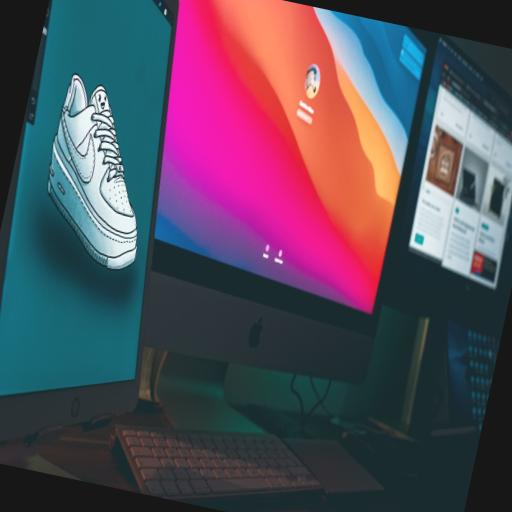shoe: (48, 75, 137, 269)
